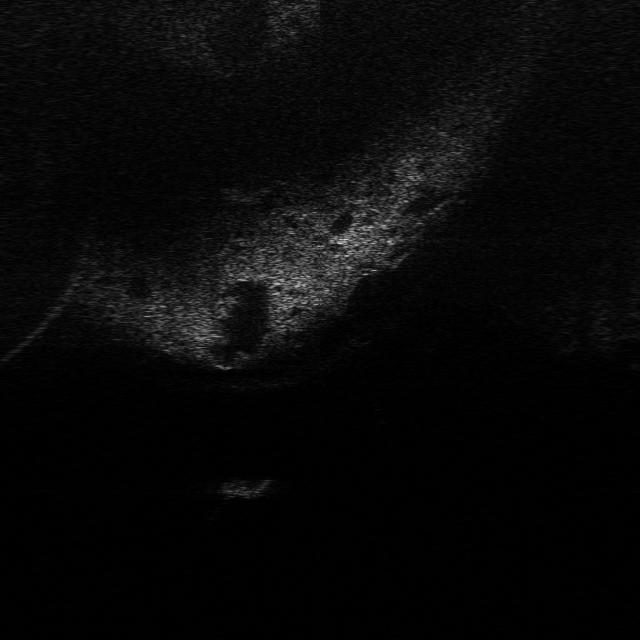ball: (339, 316, 383, 347)
cube: (212, 473, 278, 501)
